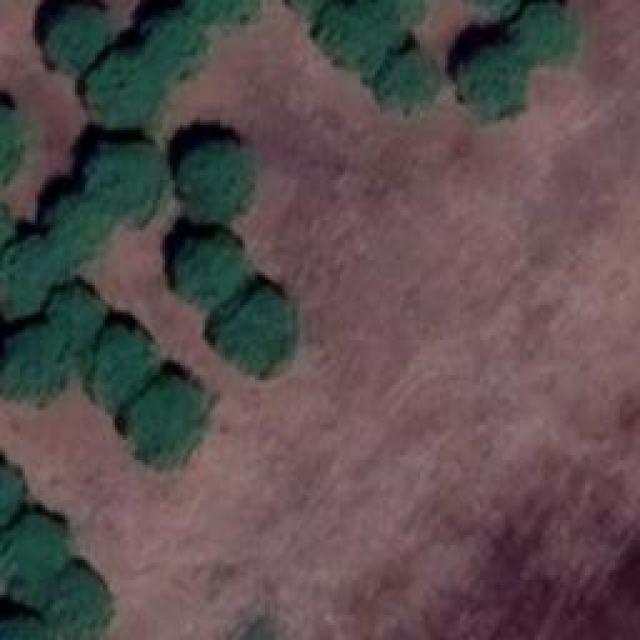Tree: (125, 373, 200, 458), (310, 0, 397, 72), (83, 140, 166, 215), (183, 140, 253, 228), (85, 50, 163, 128), (0, 513, 68, 598), (218, 293, 291, 368), (2, 328, 70, 401), (45, 560, 108, 638), (178, 238, 243, 308), (90, 327, 148, 405), (463, 43, 526, 113), (0, 237, 55, 315), (513, 0, 578, 65), (43, 195, 108, 258), (45, 5, 108, 70), (147, 5, 205, 75), (380, 50, 433, 115), (50, 285, 103, 343), (180, 0, 250, 22), (0, 100, 20, 175), (0, 620, 58, 640), (0, 465, 15, 533)
